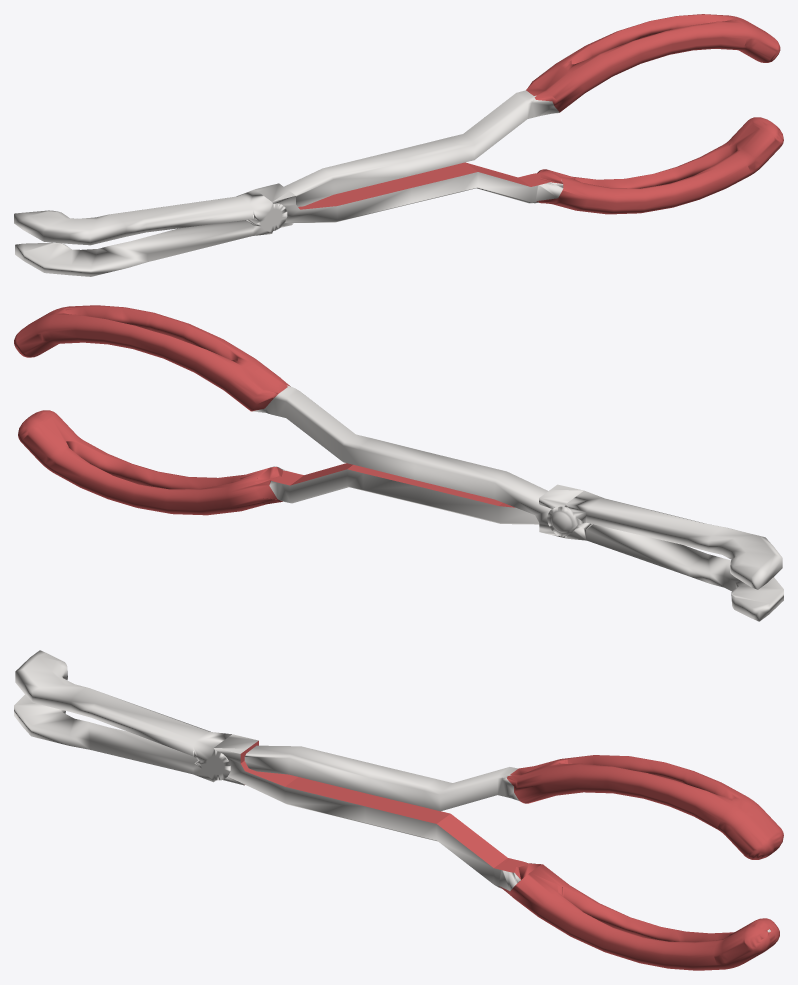
File: FORCEPS.fbx
The picture shows the model from 3 angles, top to bottom: view 1: azimuth 30°, elevation 25°; view 2: azimuth 150°, elevation 25°; view 3: azimuth 330°, elevation 25°; orthographic projection. The views are drawn at different scales.
Visible parts, largest first — view 1: HERP; view 2: HERP; view 3: HERP.
Part boxes in pixels (<box>): HERP: <box>14,14,783,276</box>; HERP: <box>14,305,783,621</box>; HERP: <box>14,650,783,970</box>.
Bounding box in the file's own units: 45491 × 10456 × 5895.
